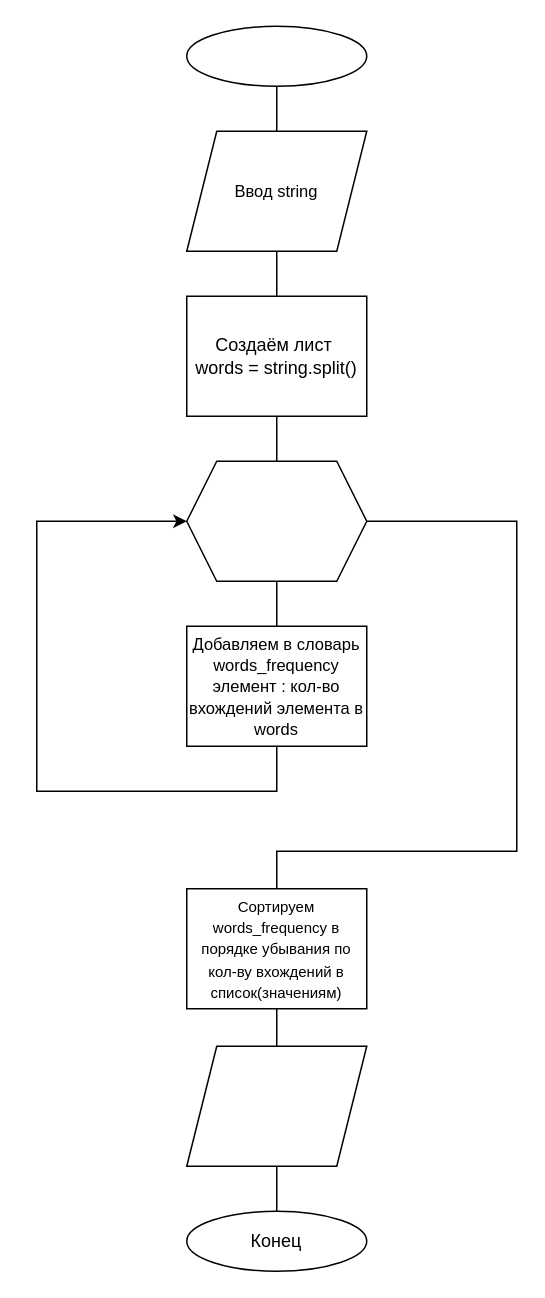
Some shapes in this 545 by 1298 pixel diagram are drawn without their labels. Each missing label, with the centre of its shape:
"Выводим первые 5 слов в words_frequency" belongs at [276,1105].
"Начало" belongs at [276,55].
"Проходим по элементам в words" belongs at [276,520].
